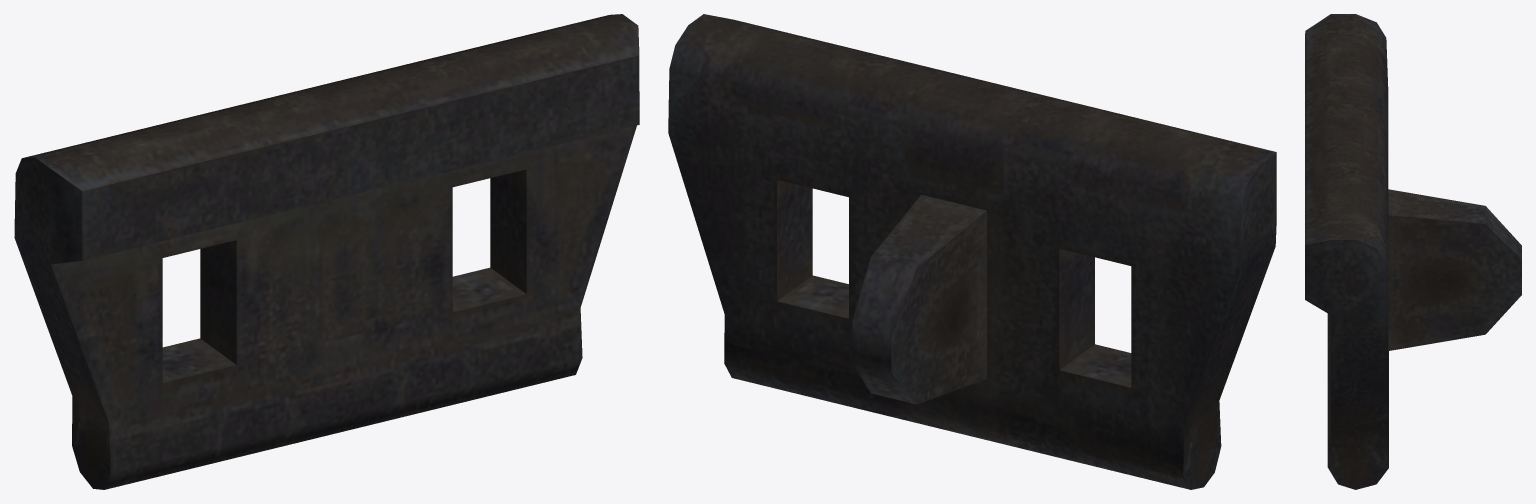
3 renders of one model, left to right at view 1: azimuth 30°, elevation 25°; view 2: azimuth 150°, elevation 25°; view 3: azimuth 270°, elevation 25°, orthographic. The views are drawn at different scales.
Parts seen in each view (by area): view 1: set_0_group_0; view 2: set_0_group_0; view 3: set_0_group_0.
Boxes of the visible parts, x1,y1,x2,y2 form: set_0_group_0: [14, 14, 639, 489]; set_0_group_0: [668, 14, 1276, 489]; set_0_group_0: [1305, 14, 1521, 489].
Size of the model in its own units: 0.4 by 0.2248 by 0.1622.
1 material, 1 textured.
